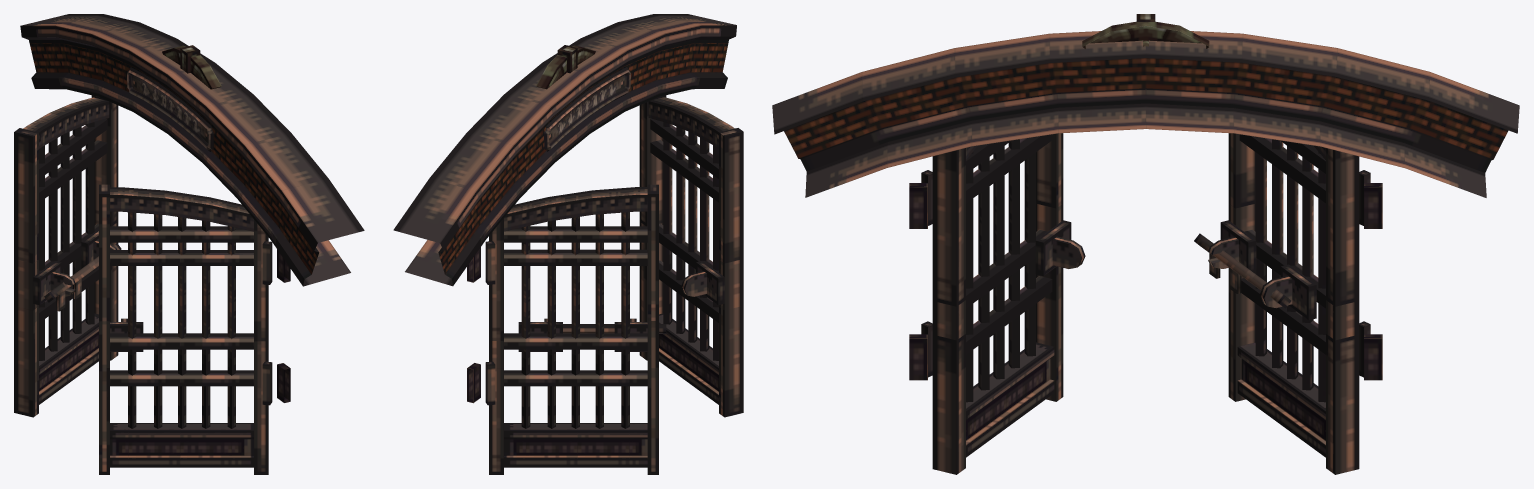
The model's file is EnvBdgMD_Factory_B_Outdoor_Gate_D_Open.FBX.
3 views of the same model, side by side, from view 1: azimuth 30°, elevation 25°; view 2: azimuth 150°, elevation 25°; view 3: azimuth 270°, elevation 25° (orthographic). The views are drawn at different scales.
Parts seen in each view (by area): view 1: EnvBdgMD_Factory_B_Outdoor_Gate_D_Open; view 2: EnvBdgMD_Factory_B_Outdoor_Gate_D_Open; view 3: EnvBdgMD_Factory_B_Outdoor_Gate_D_Open.
Boxes of the visible parts, left/top/right/bottom form: EnvBdgMD_Factory_B_Outdoor_Gate_D_Open: left=14, top=14, right=364, bottom=474; EnvBdgMD_Factory_B_Outdoor_Gate_D_Open: left=393, top=14, right=743, bottom=474; EnvBdgMD_Factory_B_Outdoor_Gate_D_Open: left=772, top=14, right=1519, bottom=474.
Bounding box in the file's own units: 252 × 541 × 806.
